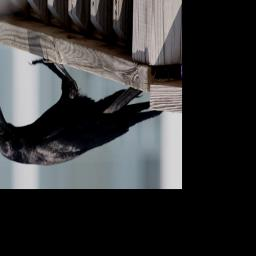Crow: (0, 58, 164, 167)
